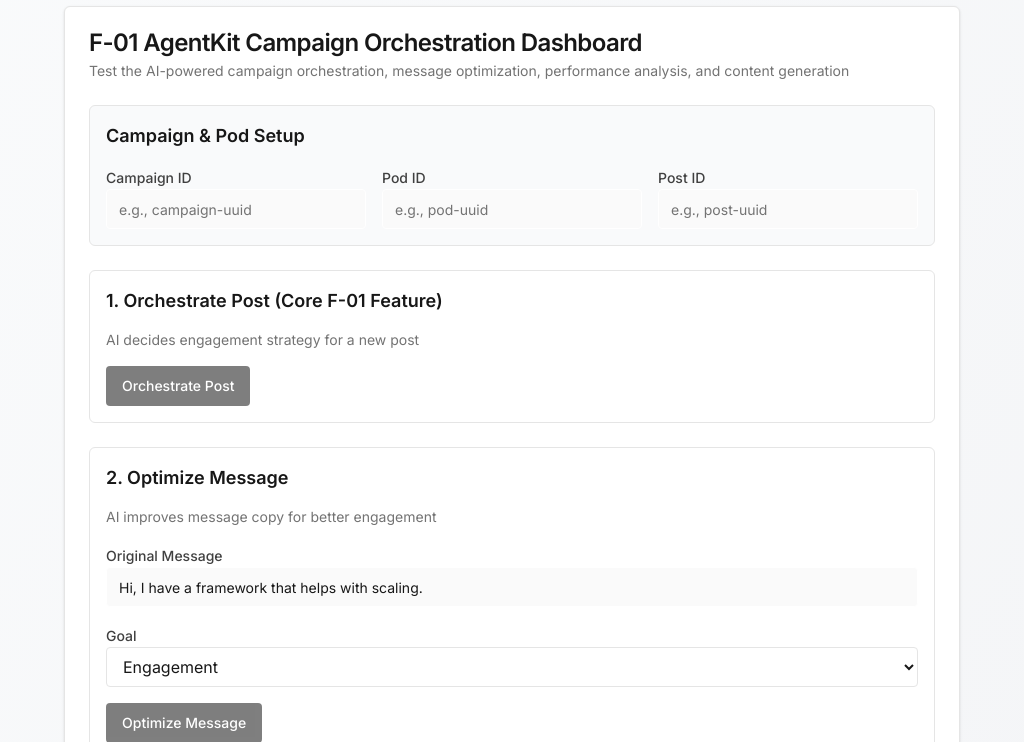
Test: F-01 Orchestration Dashboard › API Calls - orchestrate_post › should display success result for orchestrate_post
Note: Fill fields and click
Type "campaign-123" into the field with placeholder "e.g., campaign-uuid" at {"x": 236, "y": 209}, box [106,189,366,229]
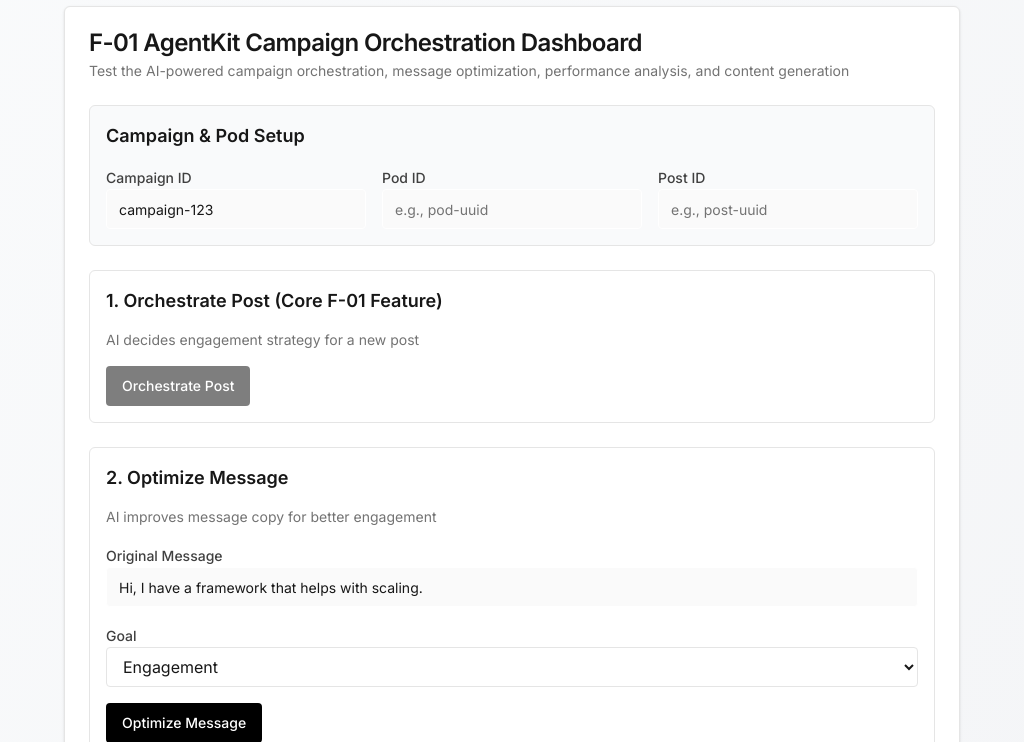
Type "pod-456" into the field with placeholder "e.g., pod-uuid" at {"x": 512, "y": 209}, box [382,189,642,229]
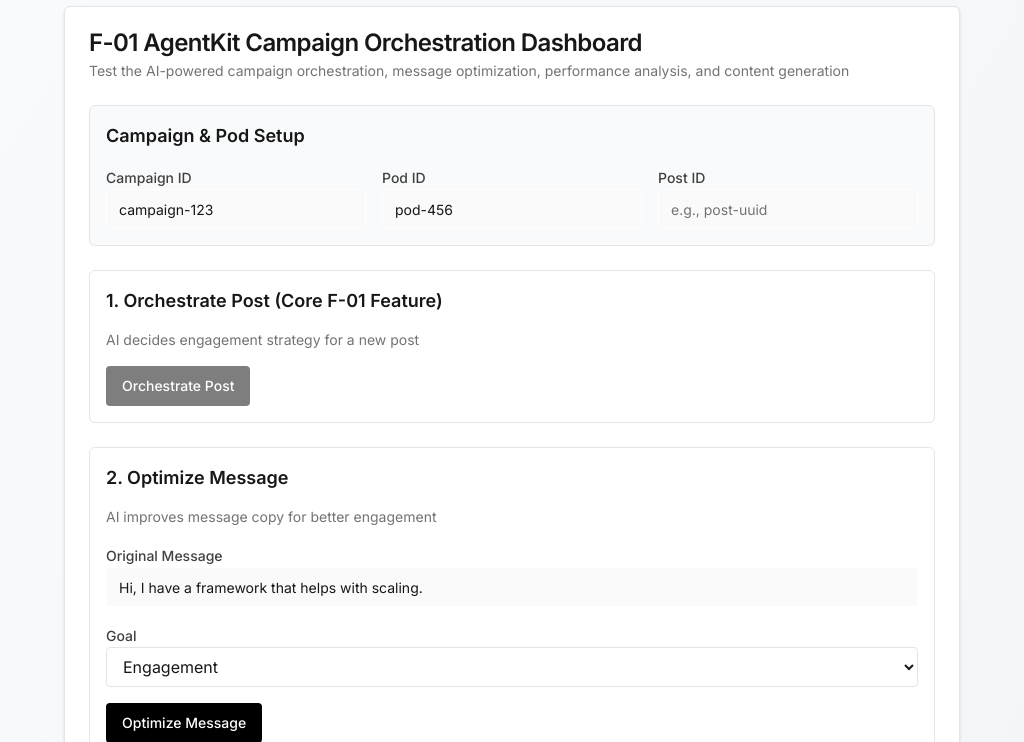
Type "post-789" into the field with placeholder "e.g., post-uuid" at {"x": 788, "y": 209}, box [658,189,918,229]
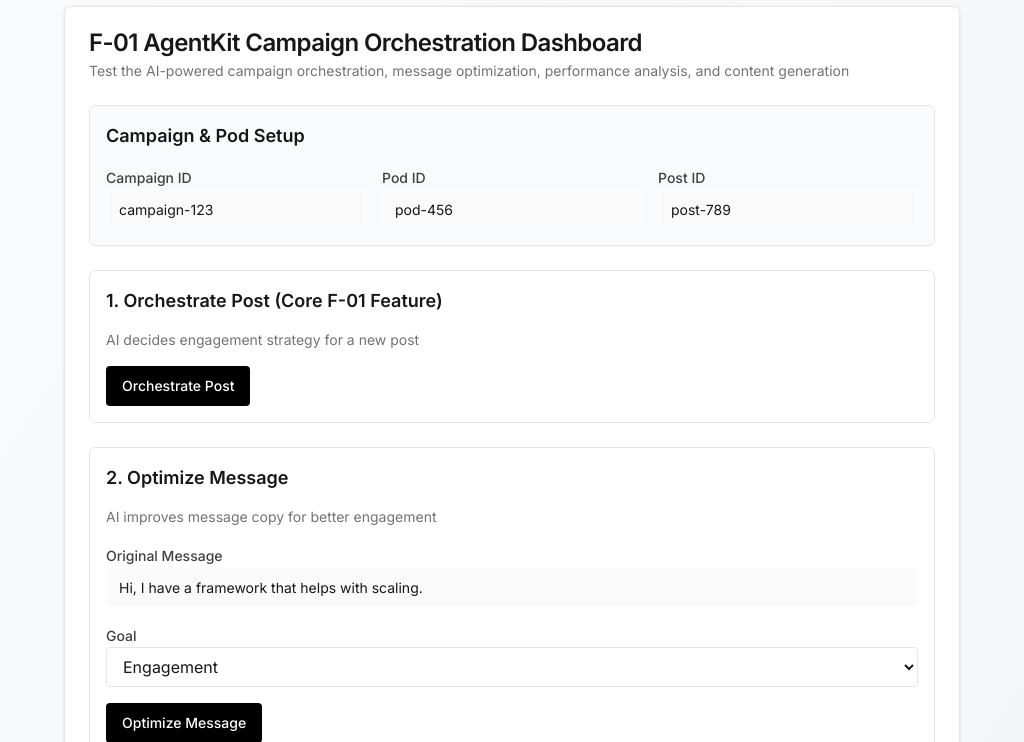
Click the button "Orchestrate Post" at {"x": 178, "y": 386}, box [106,366,250,406]
(page scrolled)
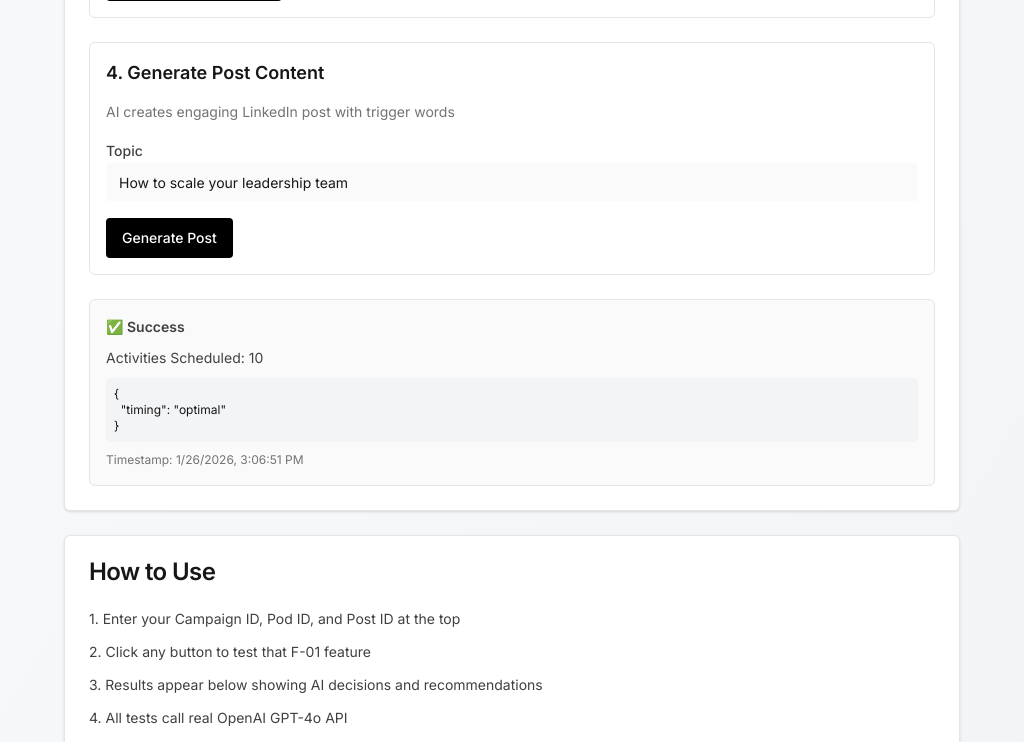
Now the text "✅ Success" is shown, box [106,318,185,335]
Now the text "Activities Scheduled: 10" is shown, box [106,349,263,366]
